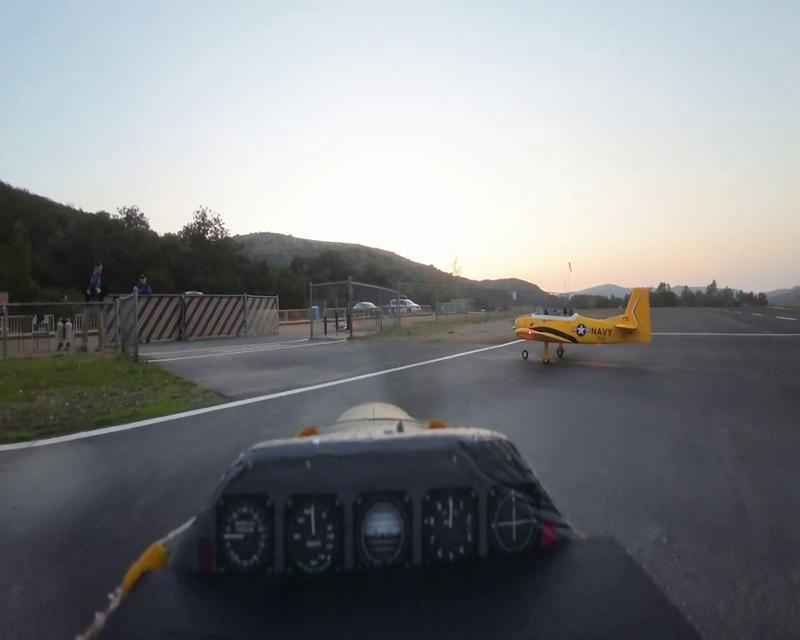UAV: (514, 286, 652, 366)
